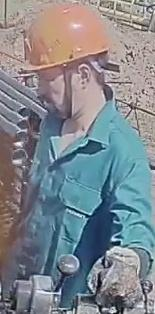gloves: (84, 239, 153, 307)
helmet: (21, 1, 112, 71)
vest: (15, 101, 155, 308)
